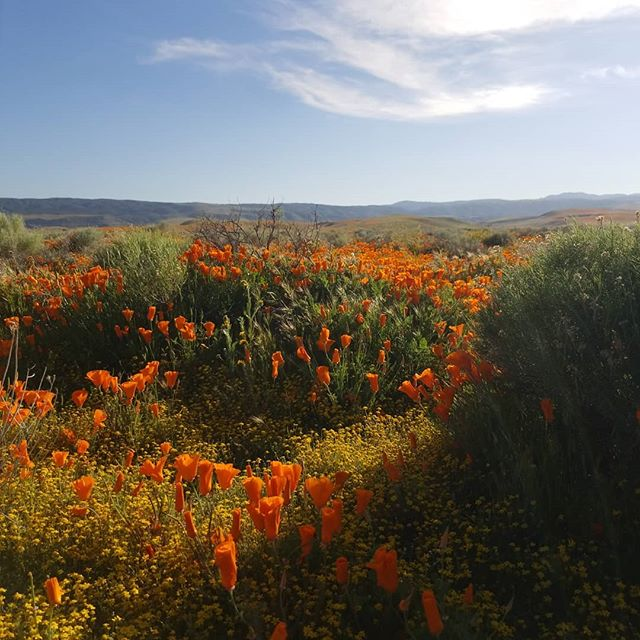flowers: (1, 231, 594, 640)
sky: (1, 1, 624, 194)
